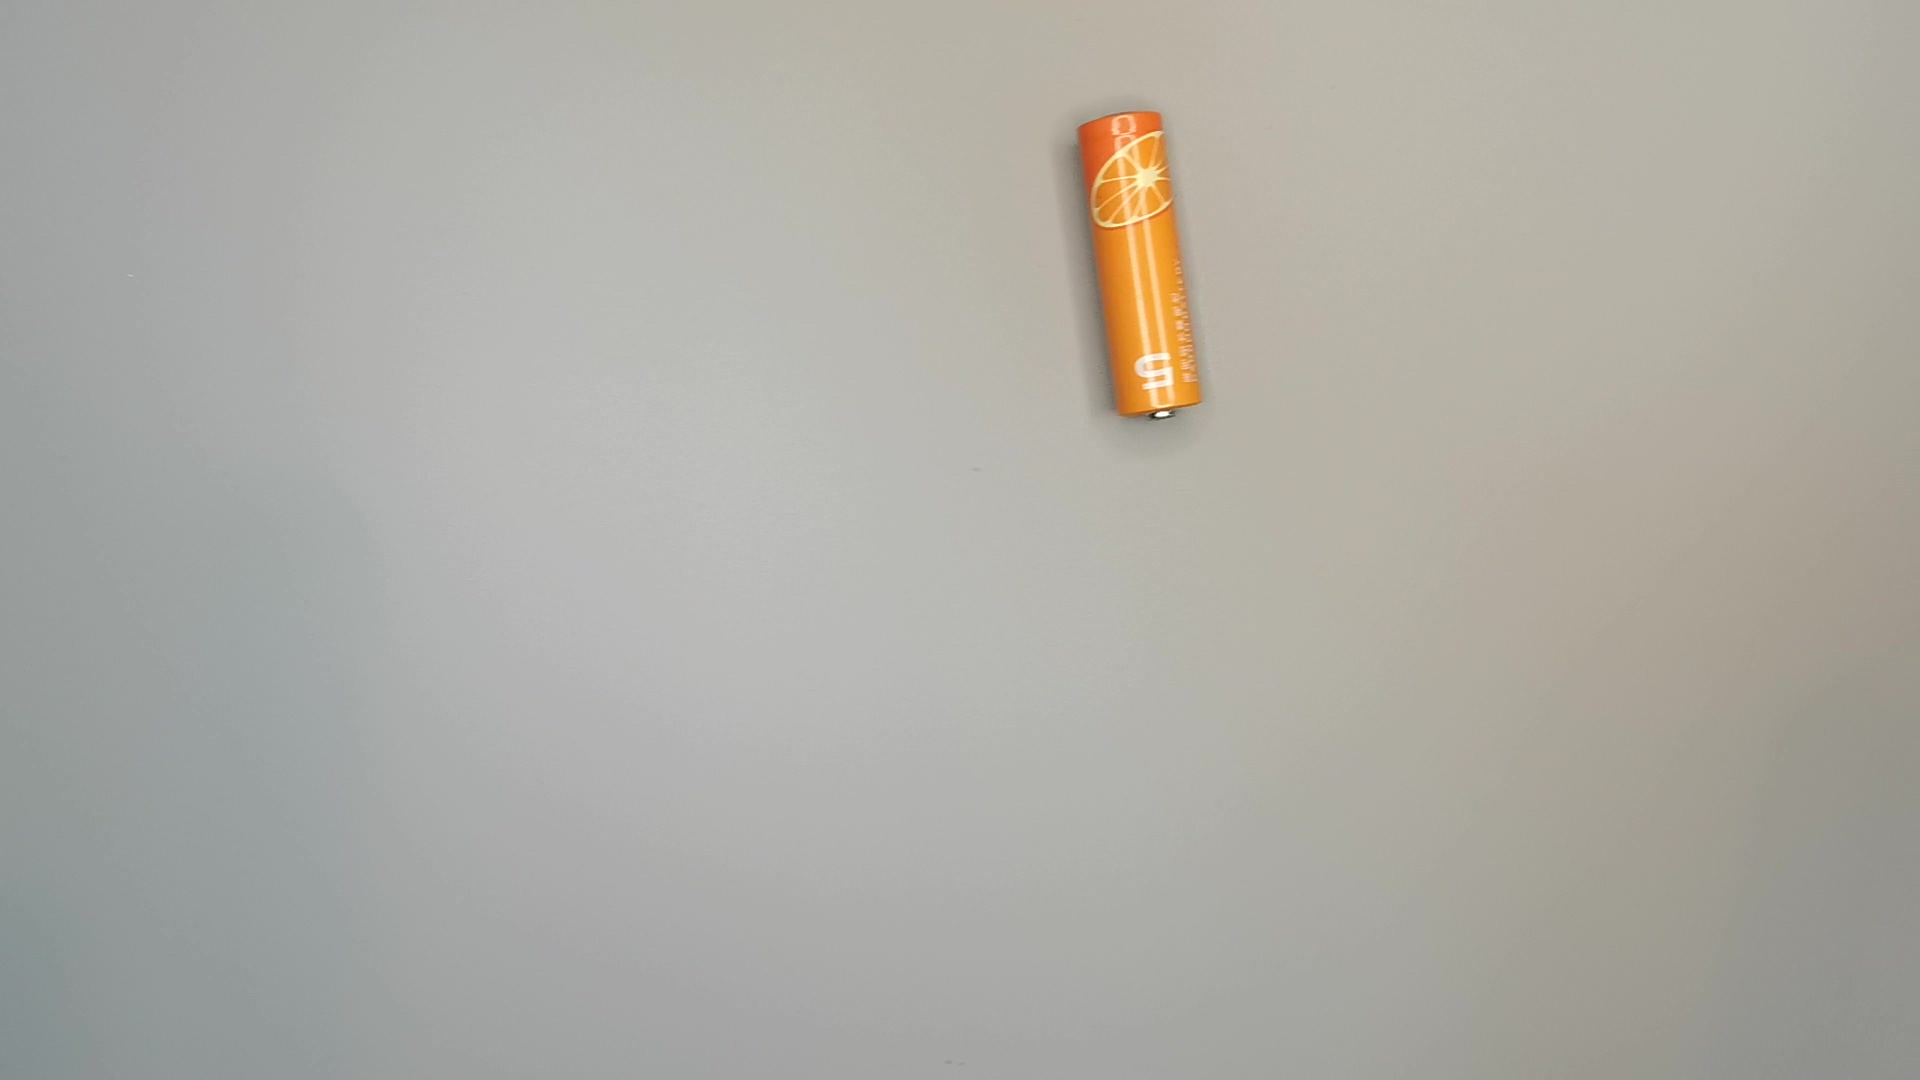battery: (1067, 105, 1217, 429)
